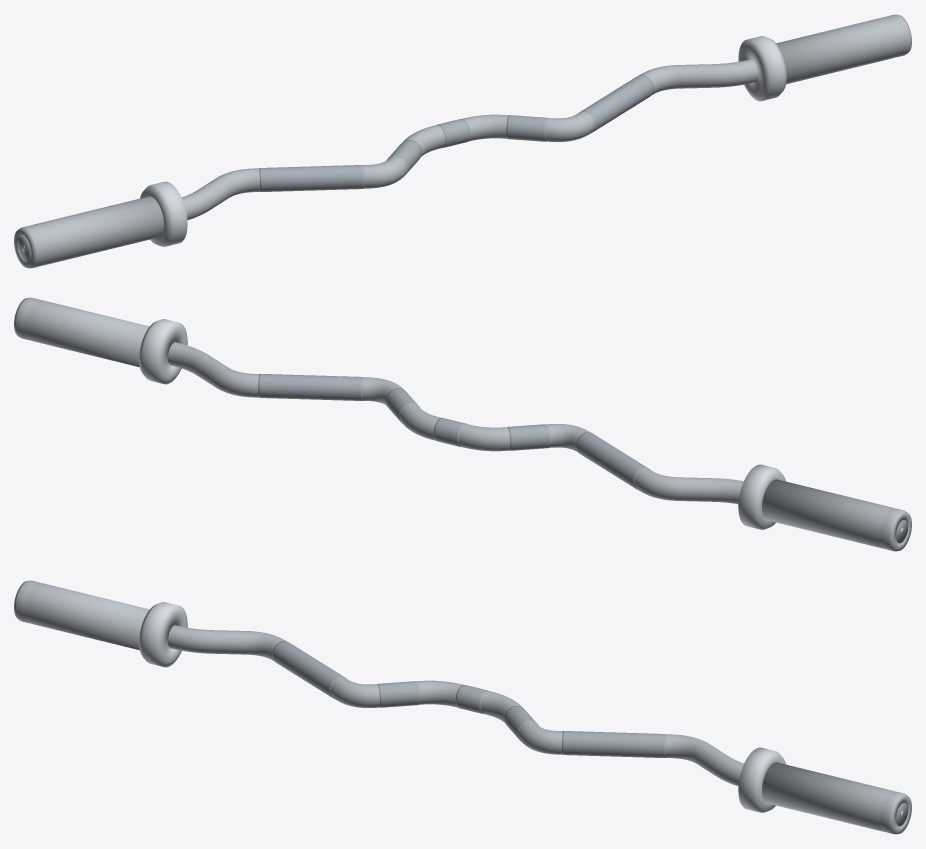
The model's file is ez_curl_bar.glb.
The picture shows the model from 3 angles, top to bottom: view 1: azimuth 30°, elevation 25°; view 2: azimuth 150°, elevation 25°; view 3: azimuth 330°, elevation 25°; orthographic projection.
Visible parts, largest first — view 1: MainBar_Steel, LeftLoadingSleeve_Sleeve, RightLoadingSleeve_Sleeve, LeftAngledGrip_Knurl, CentralGripSection_Knurl, RightSleeveCollar_Collar, LeftSleeveCollar_Collar, RightAngledGrip_Knurl; view 2: MainBar_Steel, LeftLoadingSleeve_Sleeve, RightLoadingSleeve_Sleeve, RightAngledGrip_Knurl, CentralGripSection_Knurl, RightSleeveCollar_Collar, LeftSleeveCollar_Collar, LeftAngledGrip_Knurl; view 3: MainBar_Steel, RightLoadingSleeve_Sleeve, LeftLoadingSleeve_Sleeve, RightAngledGrip_Knurl, CentralGripSection_Knurl, LeftSleeveCollar_Collar, RightSleeveCollar_Collar, LeftAngledGrip_Knurl.
Boxes of the visible parts, x1,y1,x2,y2 form: MainBar_Steel: (182,59,757,220); LeftLoadingSleeve_Sleeve: (14,196,163,268); RightLoadingSleeve_Sleeve: (776,14,911,84); LeftAngledGrip_Knurl: (259,165,363,191); CentralGripSection_Knurl: (388,115,548,174); RightSleeveCollar_Collar: (738,36,786,101); LeftSleeveCollar_Collar: (140,181,187,246); RightAngledGrip_Knurl: (579,75,653,132); MainBar_Steel: (168,342,743,503); LeftLoadingSleeve_Sleeve: (762,479,911,551); RightLoadingSleeve_Sleeve: (14,297,149,367); RightAngledGrip_Knurl: (258,374,363,400); CentralGripSection_Knurl: (385,388,549,450); RightSleeveCollar_Collar: (139,319,187,384); LeftSleeveCollar_Collar: (738,464,785,529); LeftAngledGrip_Knurl: (575,432,650,489); MainBar_Steel: (168,625,743,786); RightLoadingSleeve_Sleeve: (762,762,911,834); LeftLoadingSleeve_Sleeve: (14,580,149,650); RightAngledGrip_Knurl: (562,731,666,757); CentralGripSection_Knurl: (377,681,537,740); LeftSleeveCollar_Collar: (139,602,187,667); RightSleeveCollar_Collar: (738,747,785,812); LeftAngledGrip_Knurl: (272,641,346,698).
Bounding box in the file's own units: 1.2 × 0.075 × 0.096.
Materials: 5 (3 with a texture image).
